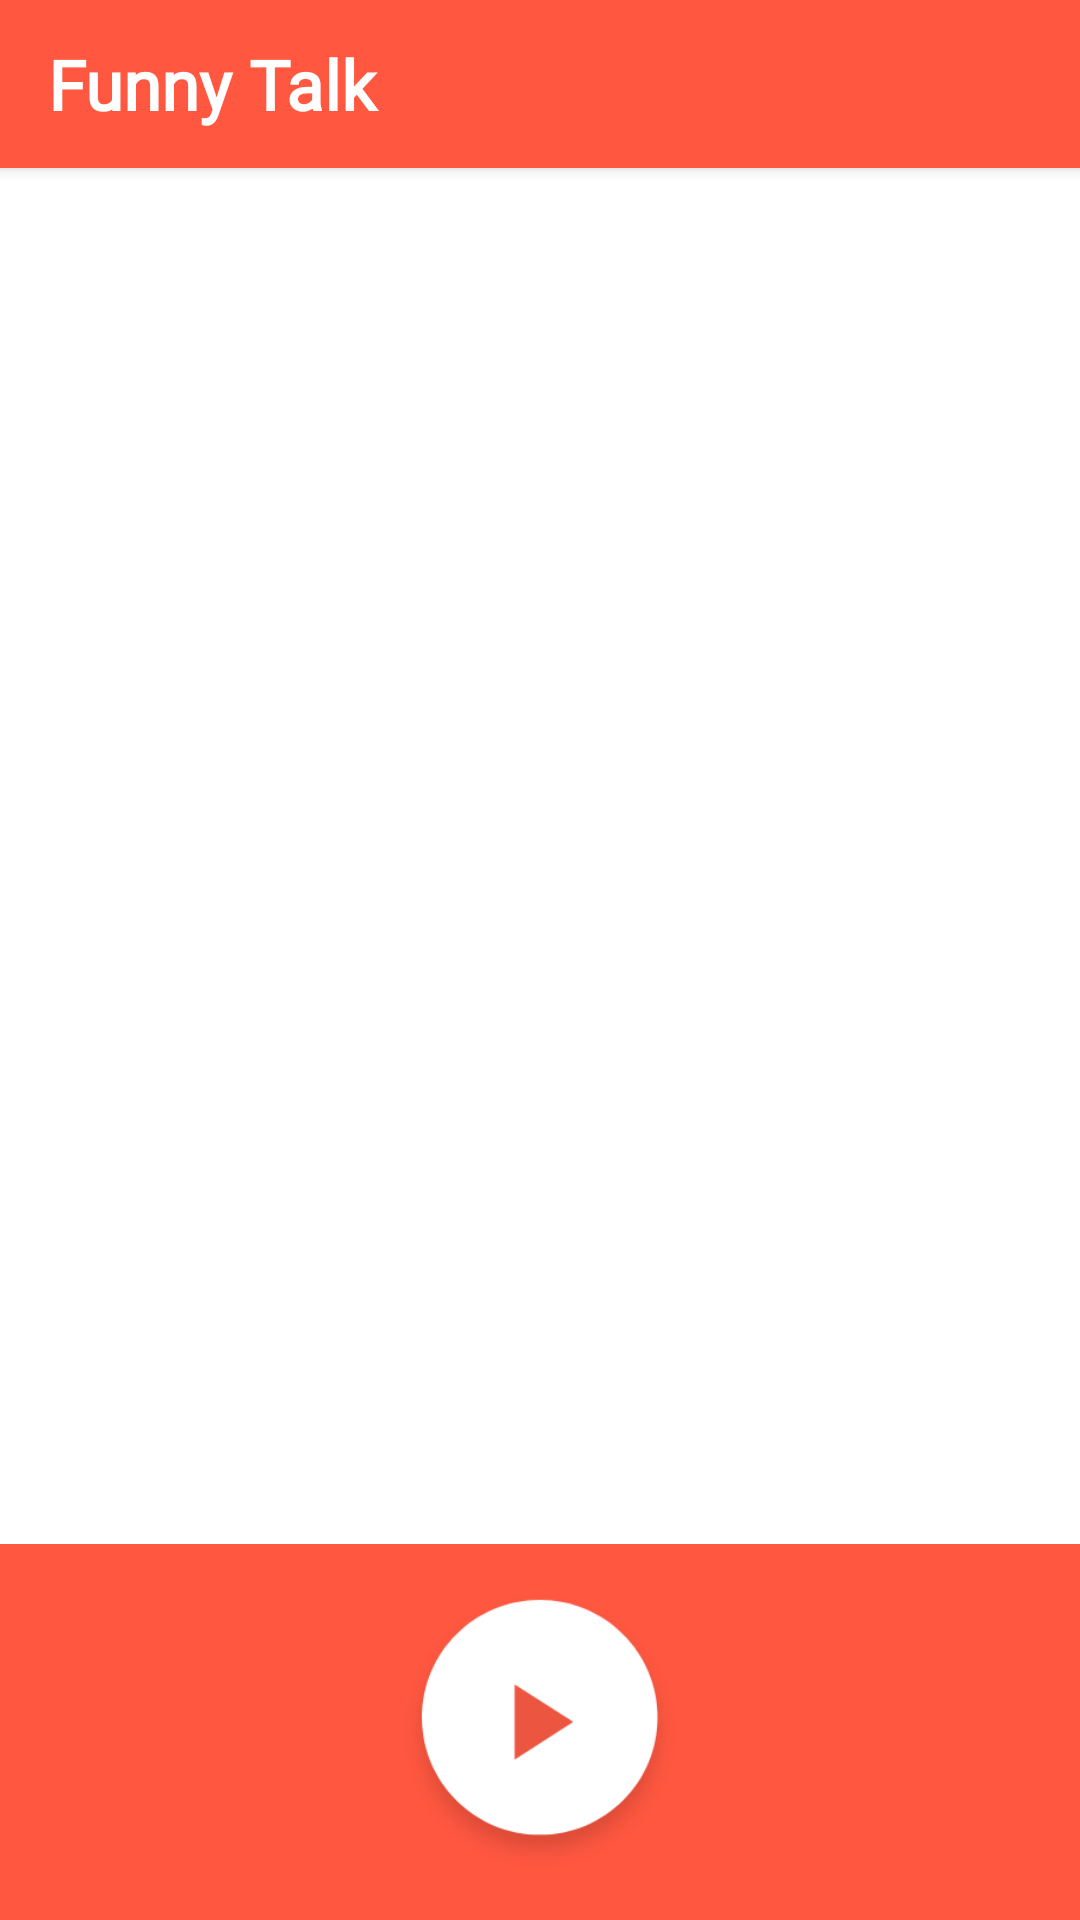

Named icons in this screenshot (1080 x 1920) and their centers, point (x, y):
play: point (539, 1722)
